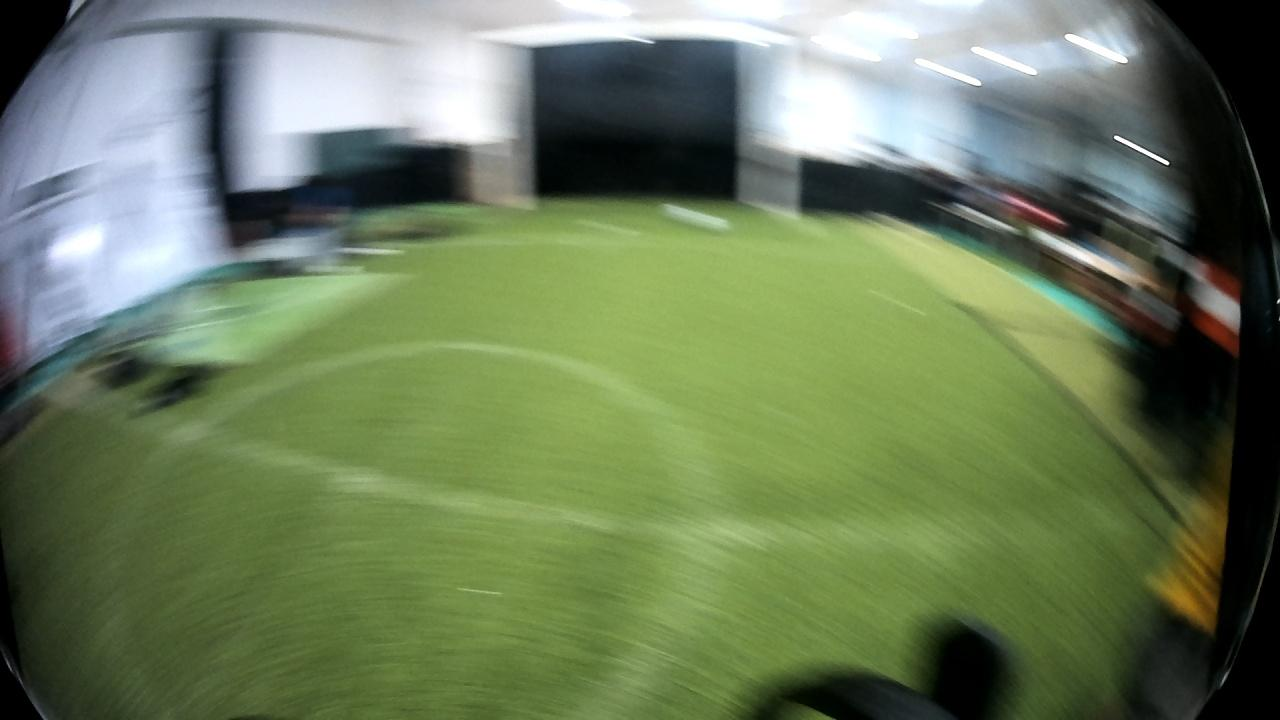ball: (651, 198, 733, 237)
